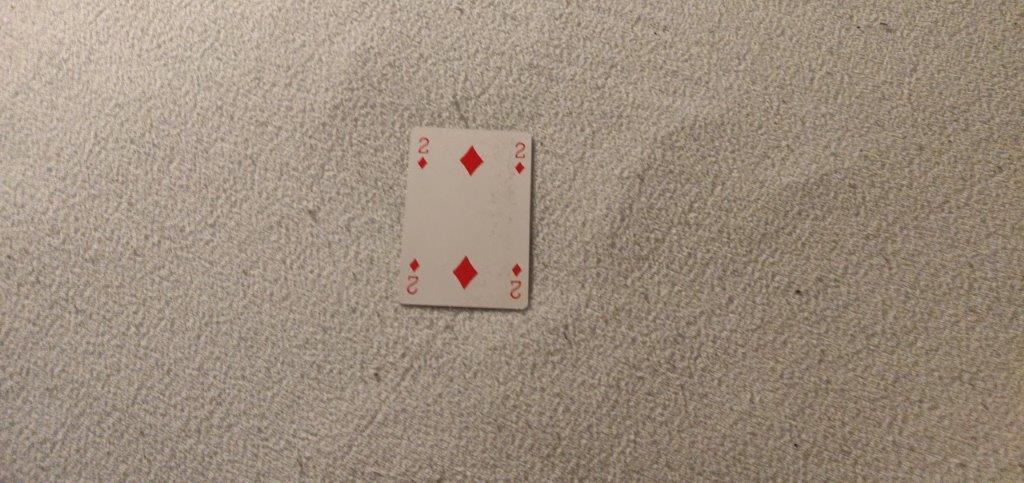2D: (412, 132, 433, 175), (512, 140, 528, 176)
